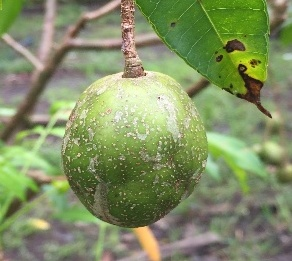Coc: (59, 70, 208, 226)
